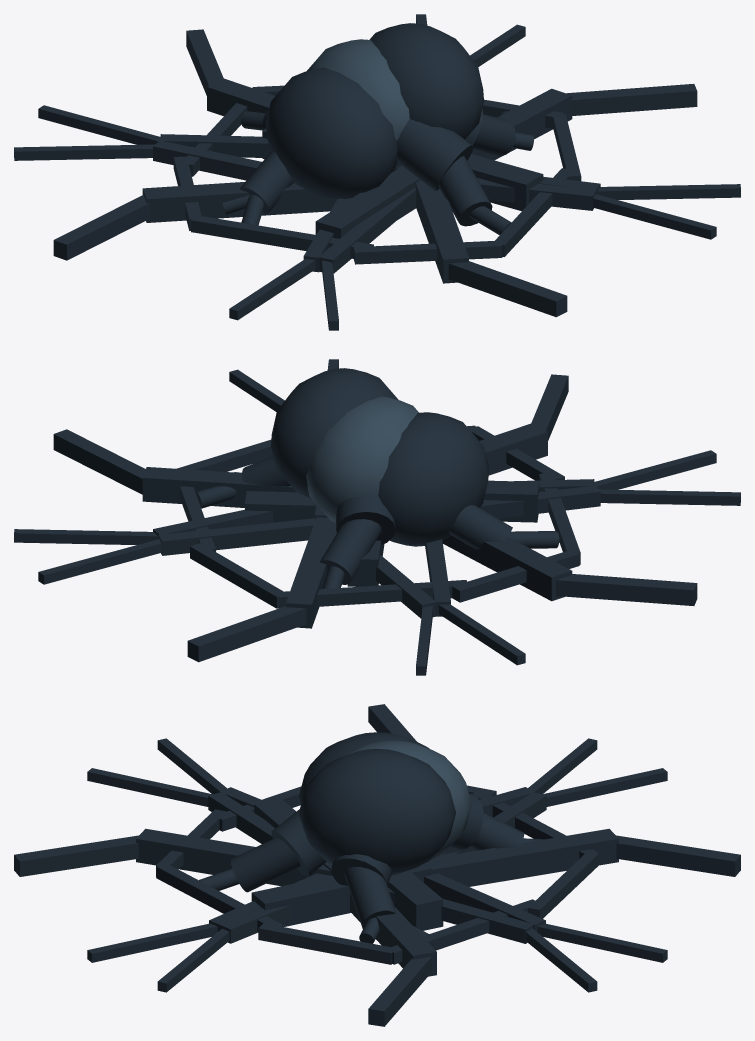
The model's file is CMU3DHiveXenoWeedsSourceHidden.glb.
The picture shows the model from 3 angles, top to bottom: view 1: azimuth 30°, elevation 25°; view 2: azimuth 150°, elevation 25°; view 3: azimuth 270°, elevation 25°; orthographic projection.
Parts seen in each view (by area): view 1: connected ground rhizome (×10), overlapping root node (×3), forked ground filament (×12), interwoven root loop (×7), sinuous anchoring root (×5); view 2: connected ground rhizome (×11), overlapping root node (×3), forked ground filament (×13), interwoven root loop (×7), sinuous anchoring root (×6); view 3: connected ground rhizome (×10), forked ground filament (×15), overlapping root node (×3), interwoven root loop (×7), sinuous anchoring root (×6).
Part boxes in pixels (<box>): connected ground rhizome (×10): <box>53,29,697,317</box>; overlapping root node (×3): <box>265,23,483,200</box>; forked ground filament (×12): <box>14,24,740,330</box>; interwoven root loop (×7): <box>173,99,581,264</box>; sinuous anchoring root (×5): <box>240,114,515,235</box>; connected ground rhizome (×11): <box>53,374,697,662</box>; overlapping root node (×3): <box>271,368,489,546</box>; forked ground filament (×13): <box>14,369,740,675</box>; interwoven root loop (×7): <box>177,426,580,608</box>; sinuous anchoring root (×6): <box>196,456,559,584</box>; connected ground rhizome (×10): <box>14,704,740,1026</box>; forked ground filament (×15): <box>87,738,667,992</box>; overlapping root node (×3): <box>299,732,471,875</box>; interwoven root loop (×7): <box>156,786,598,964</box>; sinuous anchoring root (×6): <box>230,793,524,928</box>.
Bounding box in the file's own units: 1.02 × 0.221 × 1.02.
